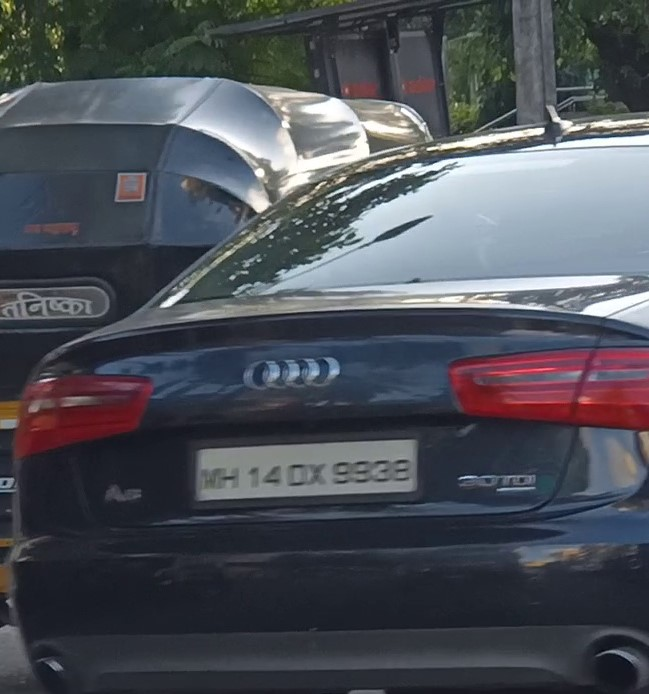MH14DX9938: (193, 438, 416, 495)
